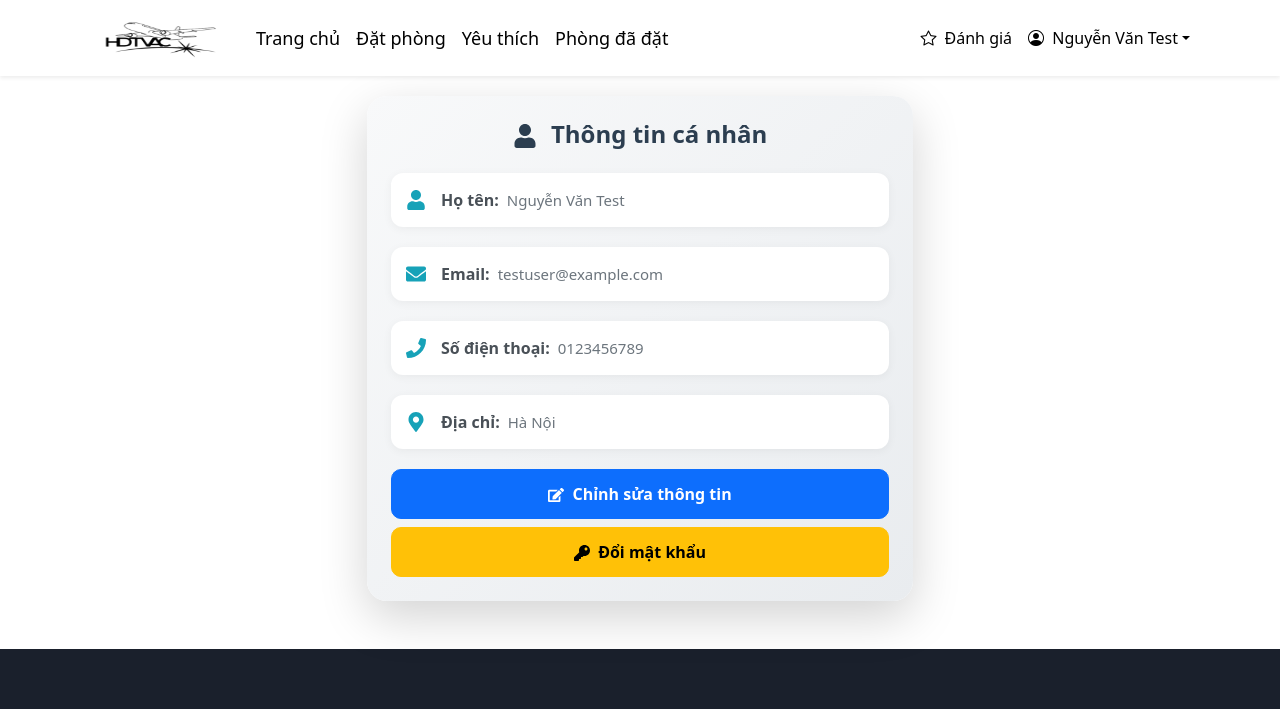
Tính năng Người dùng - E2E Test › Quản lý hồ sơ cá nhân › Cập nhật thông tin cá nhân thành công
Click the button "Chỉnh sửa thông tin". click: (640, 494)
box: [391,469,889,519]
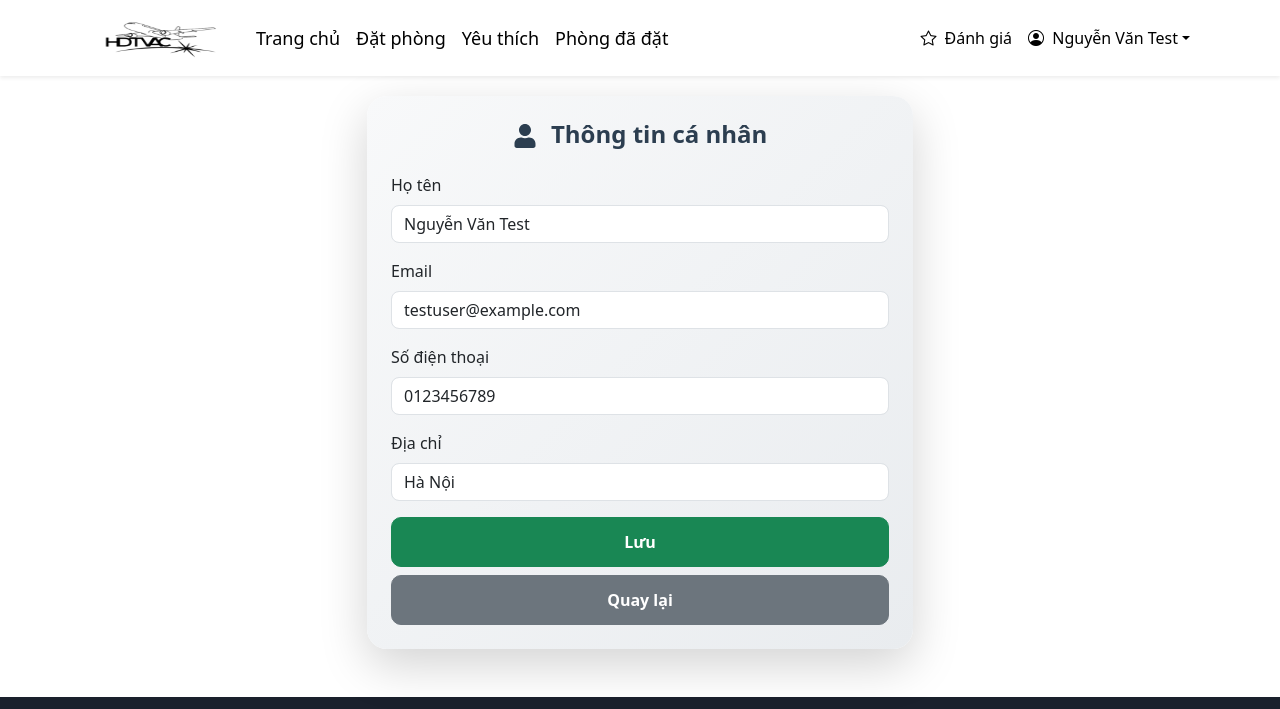
Replace the text in the field named "fullname" below "Họ tên" with "Nguyễn Văn Updated". click: (640, 224)
box: [391,205,889,243]
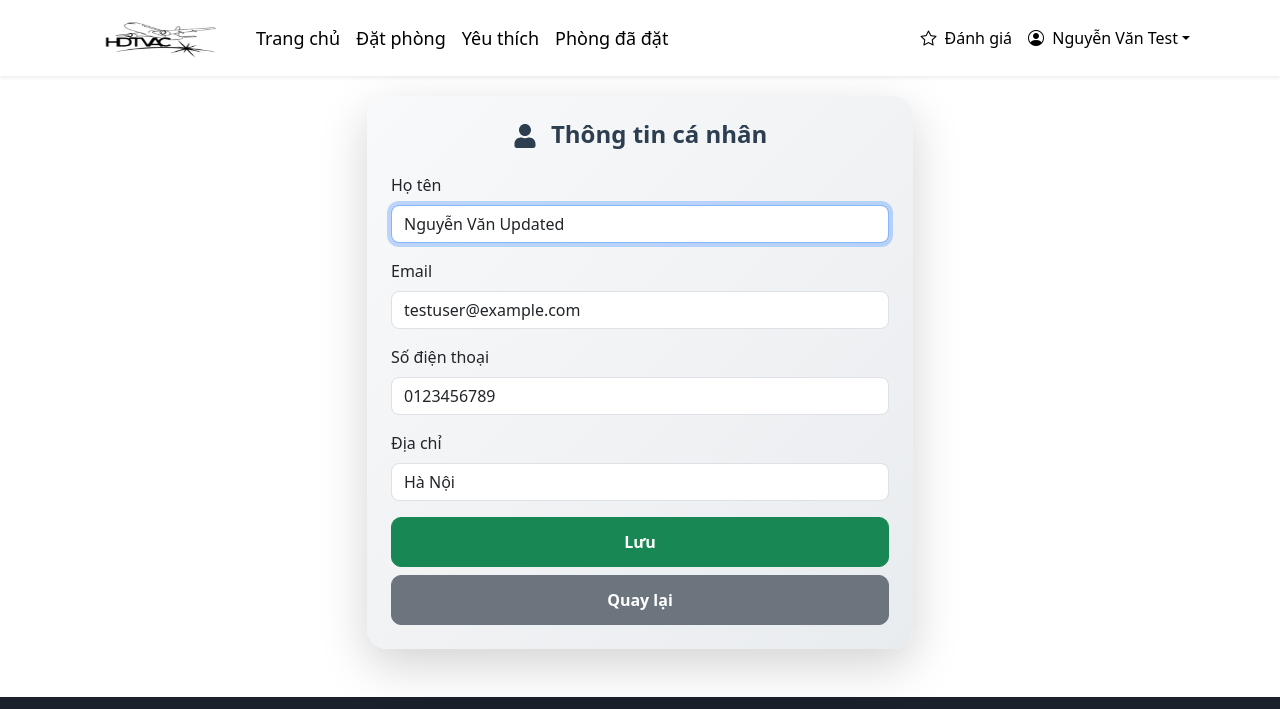
Replace the text in the field named "phone" below "Số điện thoại" with "0912345678". click: (640, 396)
box: [391,377,889,415]
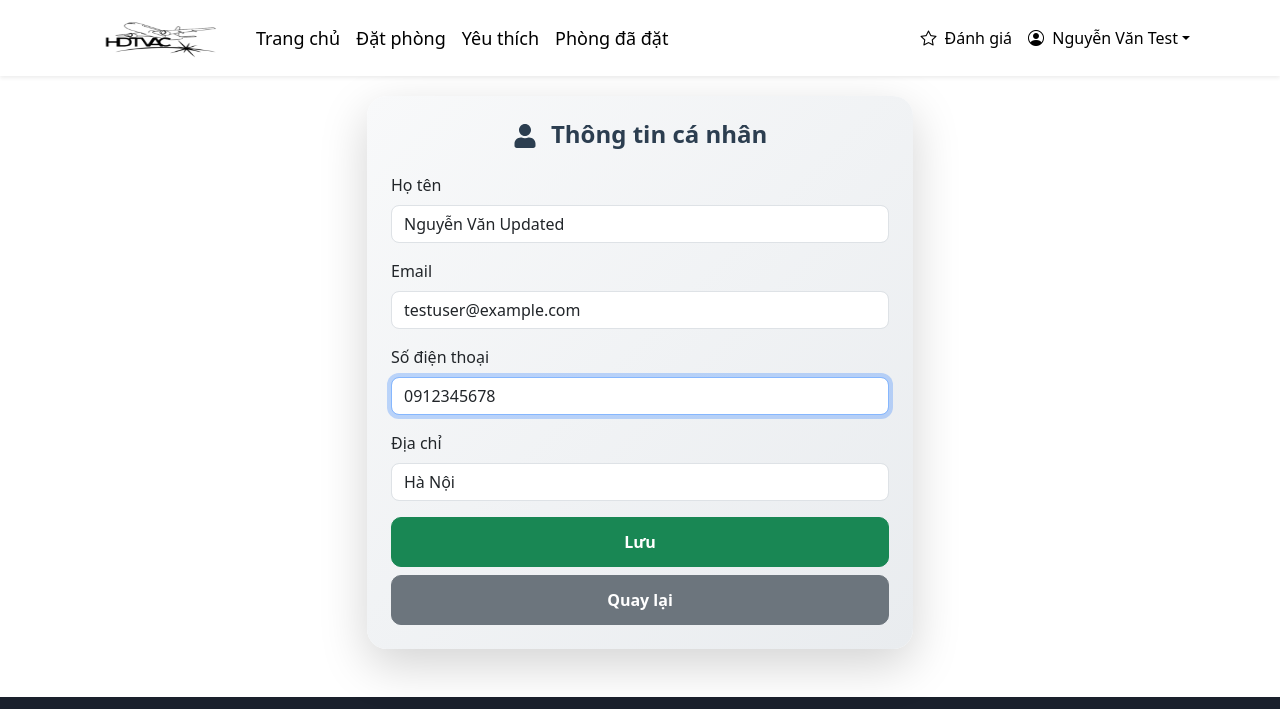
Replace the text in the field named "address" below "Địa chỉ" with "Hà Nội, Việt Nam". click: (640, 482)
box: [391,463,889,501]
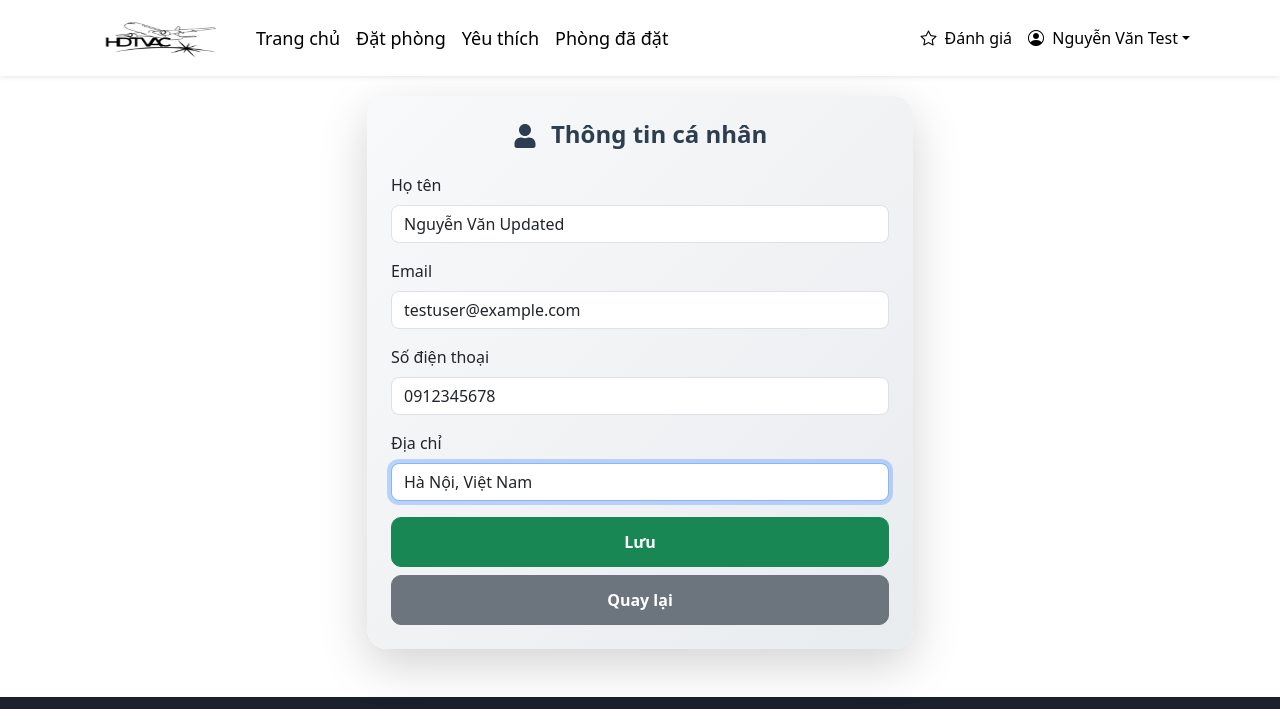
Click the button "Lưu". click: (640, 542)
box: [391,517,889,567]
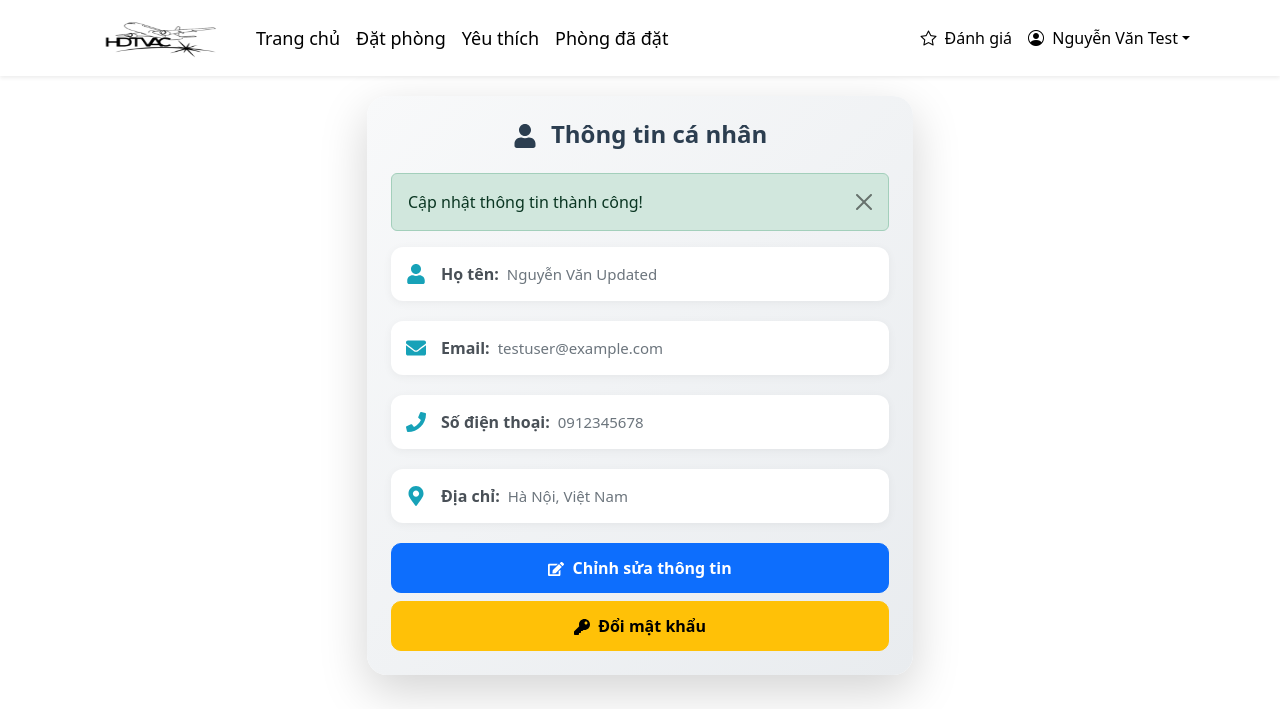
Result: the text "Cập nhật thông tin thành công!" is shown at [391,173,889,231]
